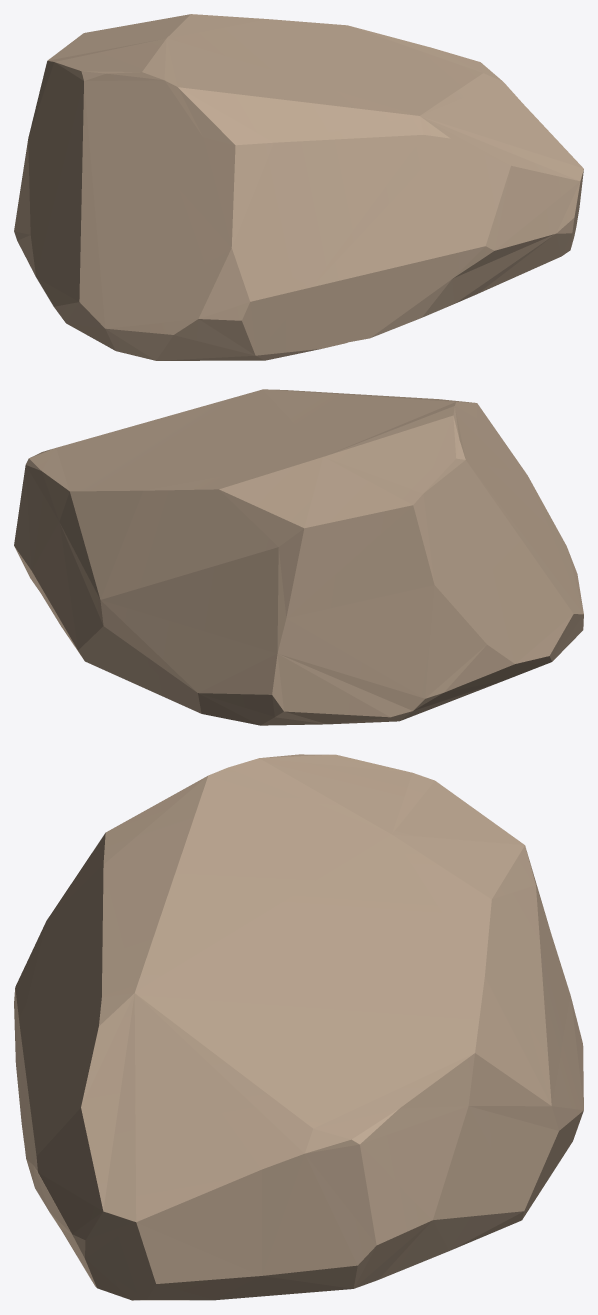
The model's file is rock_boulder_bare_mobile.glb.
3 views of the same model, one above another, from view 1: azimuth 30°, elevation 25°; view 2: azimuth 150°, elevation 25°; view 3: azimuth 270°, elevation 25° (orthographic). The views are drawn at different scales.
Parts seen in each view (by area): view 1: SM_Env_Rock_01; view 2: SM_Env_Rock_01; view 3: SM_Env_Rock_01.
Boxes of the visible parts, bbox=[...] form: SM_Env_Rock_01: bbox=[14, 14, 583, 360]; SM_Env_Rock_01: bbox=[14, 389, 583, 725]; SM_Env_Rock_01: bbox=[14, 754, 583, 1300].
Bounding box in the file's own units: 1.78 × 0.8199 × 1.36.
Materials: 1 (1 with a texture image).
